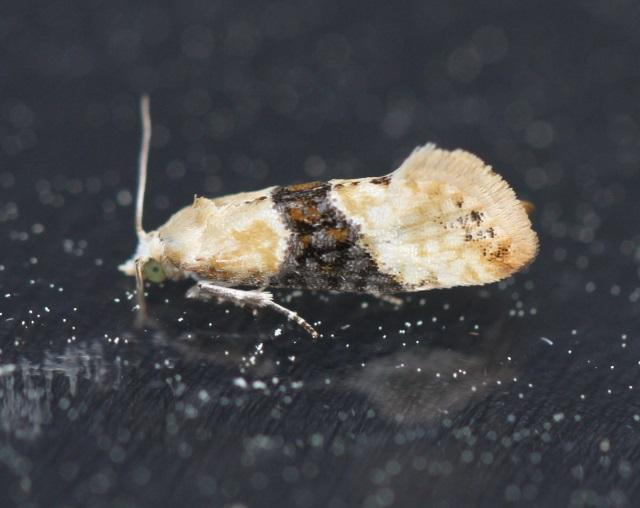Eupoecilia Ambiguella: (116, 94, 541, 341)
